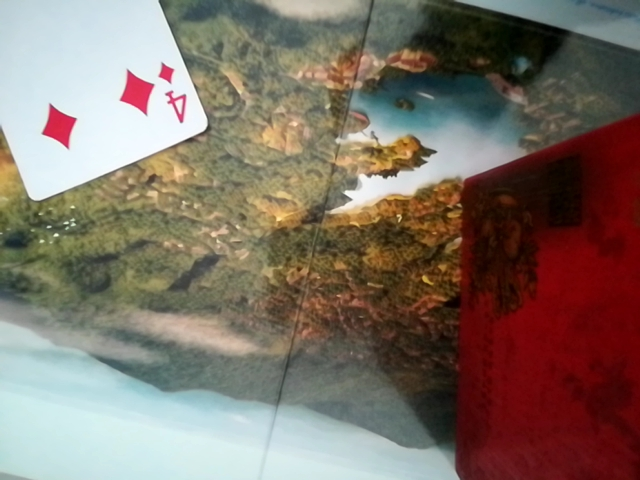fk 4: (0, 0, 205, 209)
